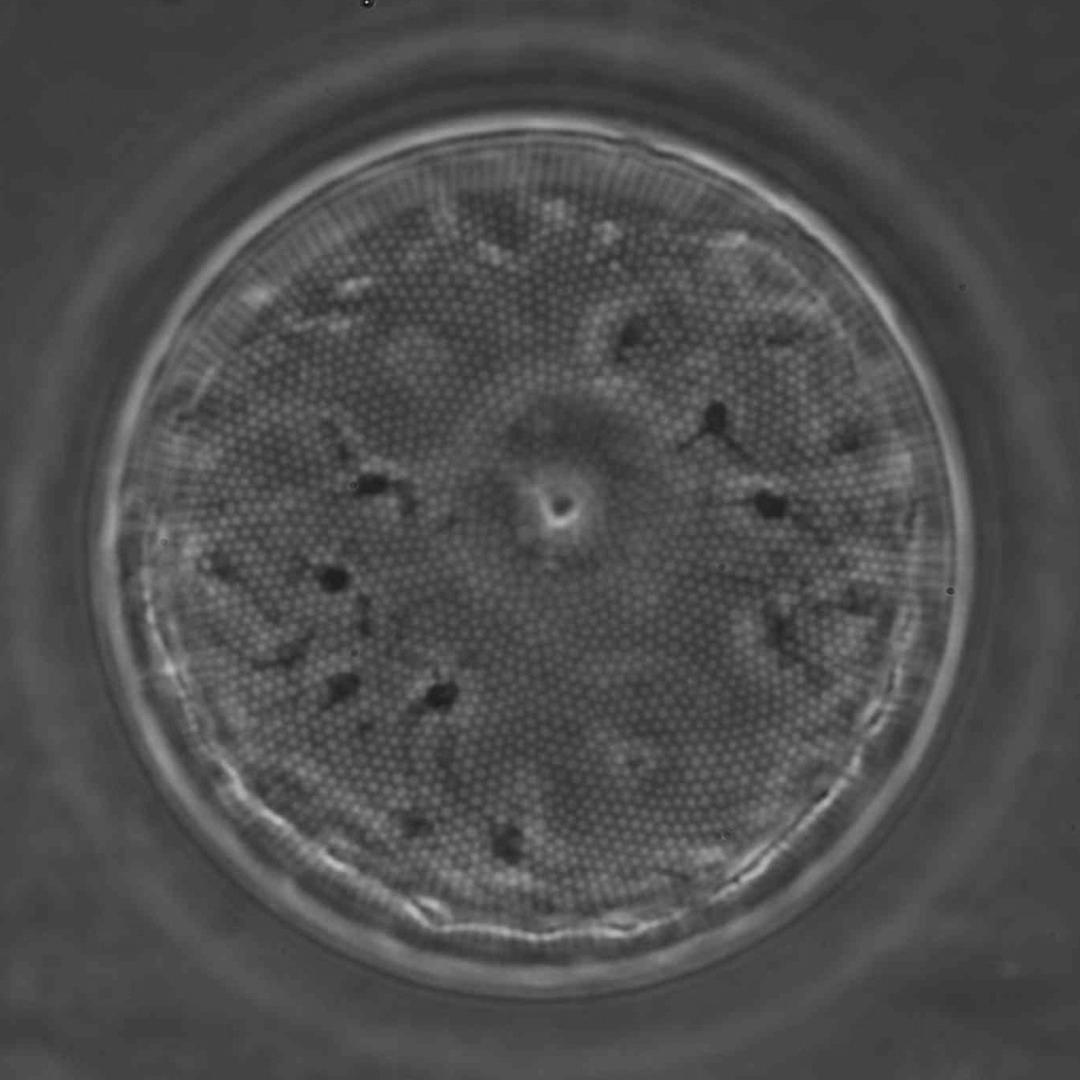coscinodiscus_oculus_iridis: (83, 104, 979, 997)
